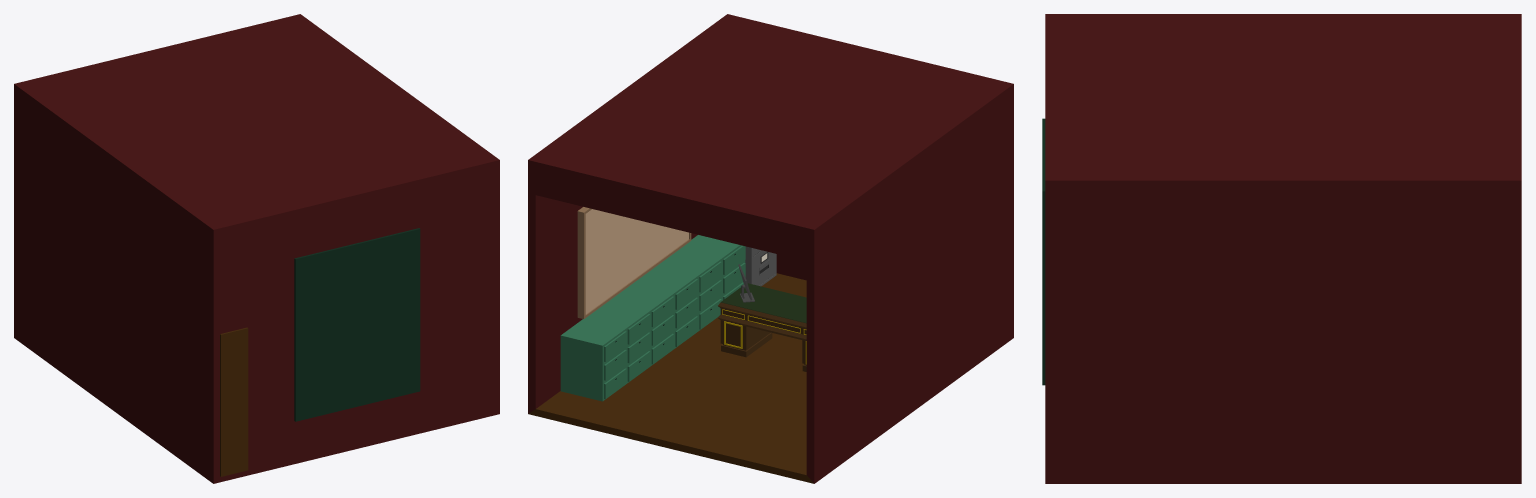
File: GAWAD_Interior.fbx
3 renders of one model, left to right at view 1: azimuth 30°, elevation 25°; view 2: azimuth 150°, elevation 25°; view 3: azimuth 270°, elevation 25°, orthographic. The views are drawn at different scales.
Visible parts, largest first — view 1: Body.004, Wiindow, BookShelves; view 2: Body.004, Locker_L, Cork_Board, Table.001, File_Locker; view 3: Body.004, Wiindow.
Part boxes in pixels (box(x1,y1,x2,y2)): Body.004: box(14, 14, 499, 483); Wiindow: box(294, 228, 420, 421); BookShelves: box(220, 327, 248, 476); Body.004: box(528, 14, 1013, 483); Locker_L: box(560, 235, 745, 401); Cork_Board: box(577, 207, 691, 318); Table.001: box(717, 283, 806, 371); File_Locker: box(745, 246, 776, 286); Body.004: box(1045, 14, 1521, 483); Wiindow: box(1042, 118, 1045, 385).
Size of the model in its own units: 1069 by 906 by 1297.
Materials: 13 (13 with a texture image).
